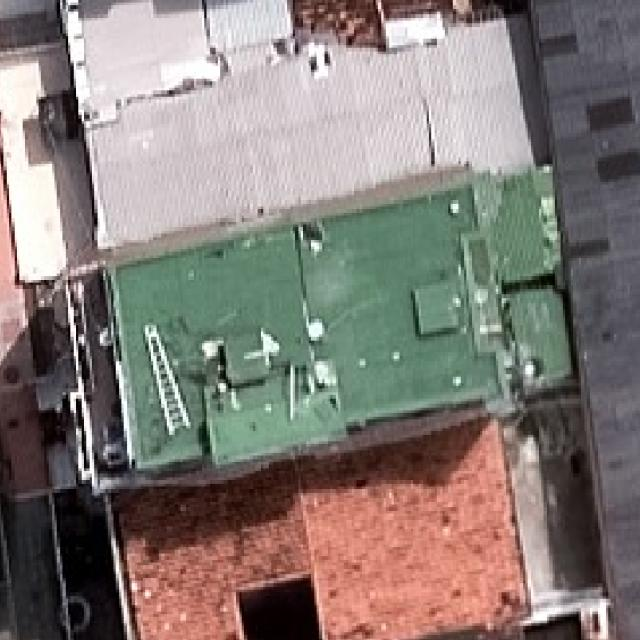Batiment: (64, 0, 531, 249), (114, 411, 528, 639)
